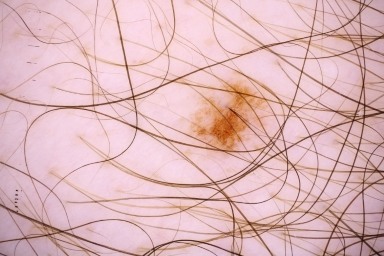melanoma: (200, 83, 259, 155)
